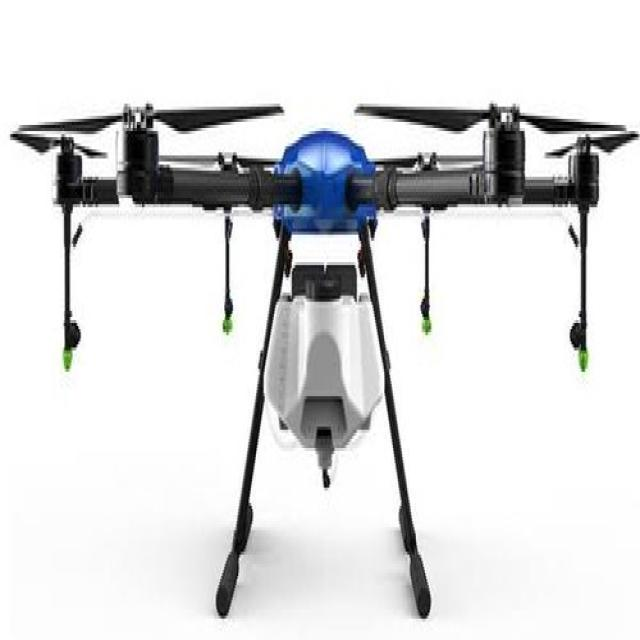drone: (1, 29, 614, 590)
